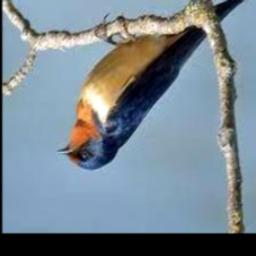Swallow: (58, 0, 256, 171)
